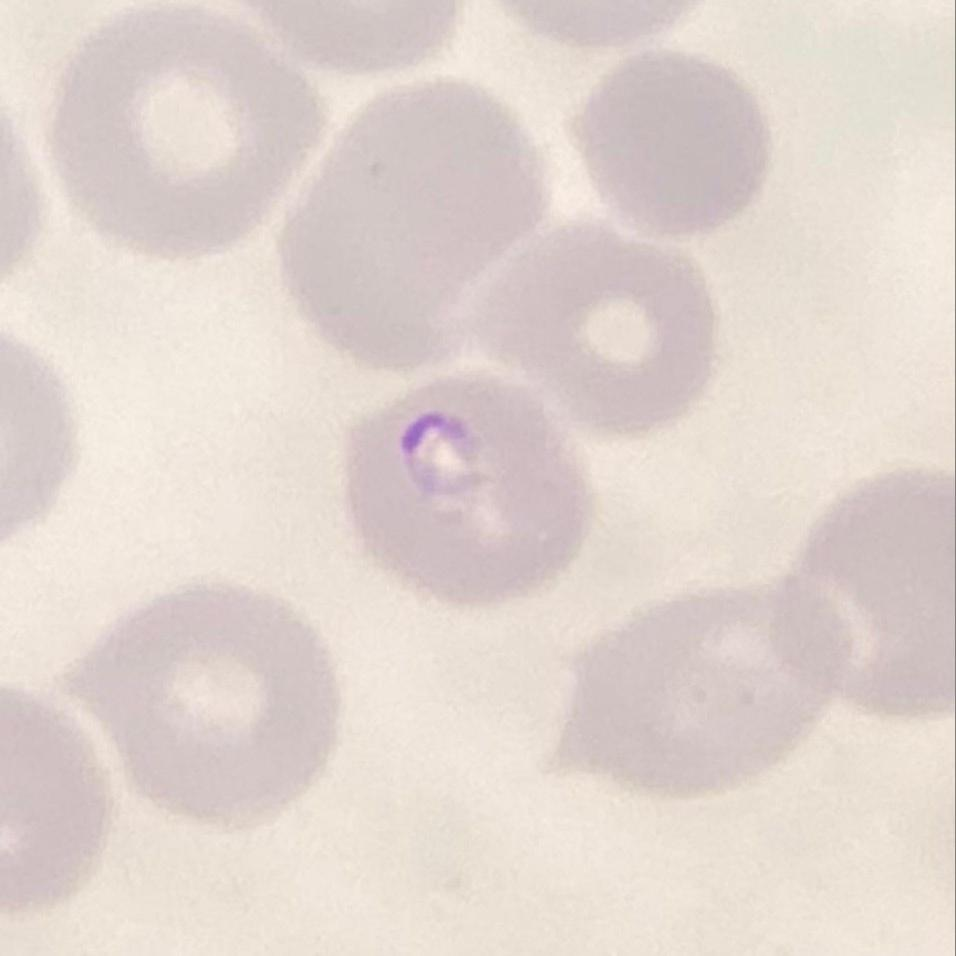Infected: (348, 363, 596, 600)
Uninfected: (272, 73, 539, 363), (62, 581, 339, 835), (50, 11, 316, 256), (552, 581, 838, 796), (450, 216, 721, 436), (765, 466, 956, 725), (575, 51, 768, 229)
